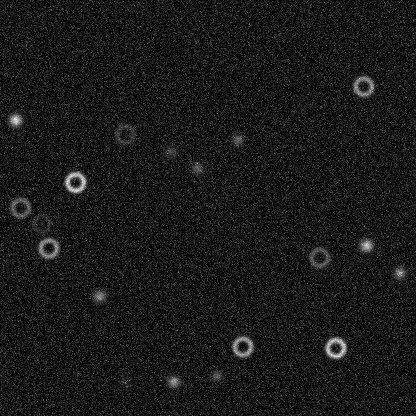Ring: (230, 334, 254, 358), (307, 245, 331, 269), (36, 235, 60, 259), (323, 335, 347, 359), (112, 121, 136, 145), (29, 211, 53, 235), (8, 195, 32, 219), (63, 170, 87, 194), (351, 74, 375, 98)
Spot: (162, 143, 178, 159), (189, 159, 205, 175), (165, 373, 181, 389), (7, 111, 23, 127), (208, 367, 224, 383), (229, 131, 245, 147), (391, 264, 407, 280), (91, 287, 107, 303), (358, 237, 374, 253), (117, 373, 133, 389)
